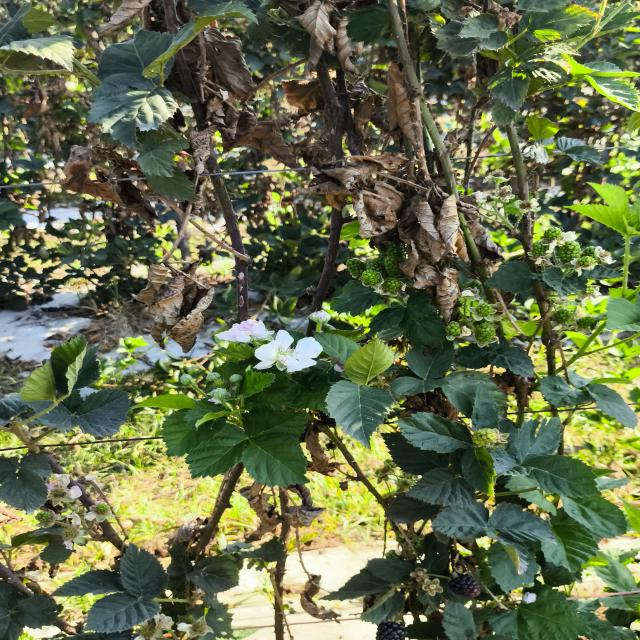boton: (309, 310, 331, 324), (180, 374, 198, 391), (211, 388, 230, 399), (206, 372, 221, 381), (230, 374, 243, 383)
flor: (255, 330, 322, 373), (218, 319, 274, 343)
maduro: (376, 621, 407, 640)
marron: (449, 574, 480, 597)
verde: (472, 428, 508, 449), (558, 241, 582, 263), (474, 321, 495, 344), (366, 254, 387, 277), (384, 255, 404, 278), (346, 258, 366, 278), (361, 269, 382, 287), (575, 255, 597, 270), (532, 240, 550, 257), (383, 277, 401, 293), (475, 302, 494, 317), (445, 322, 461, 339), (543, 227, 563, 240)
